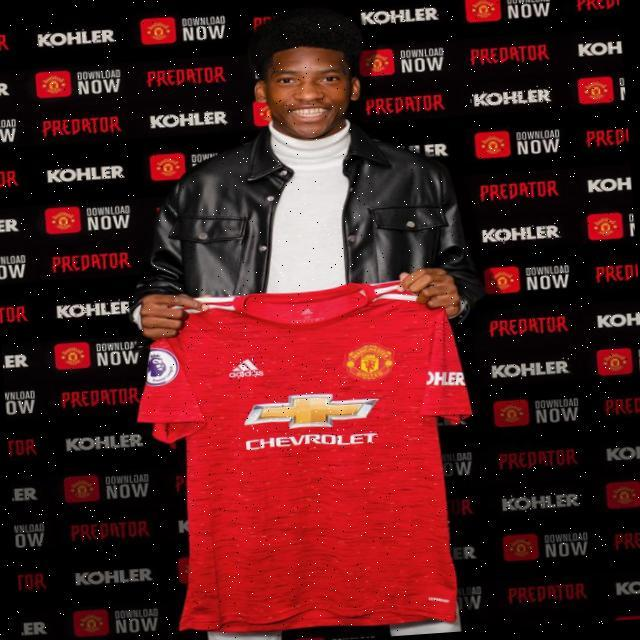Adidas: (226, 355, 265, 379)
Chevrolet: (243, 389, 381, 454)
Kohler: (72, 563, 155, 588), (469, 84, 553, 108), (499, 489, 583, 513), (36, 26, 117, 49), (64, 431, 145, 454), (482, 222, 561, 245), (491, 357, 570, 380), (148, 108, 227, 130), (361, 4, 440, 25), (55, 298, 134, 319), (47, 163, 125, 184)
